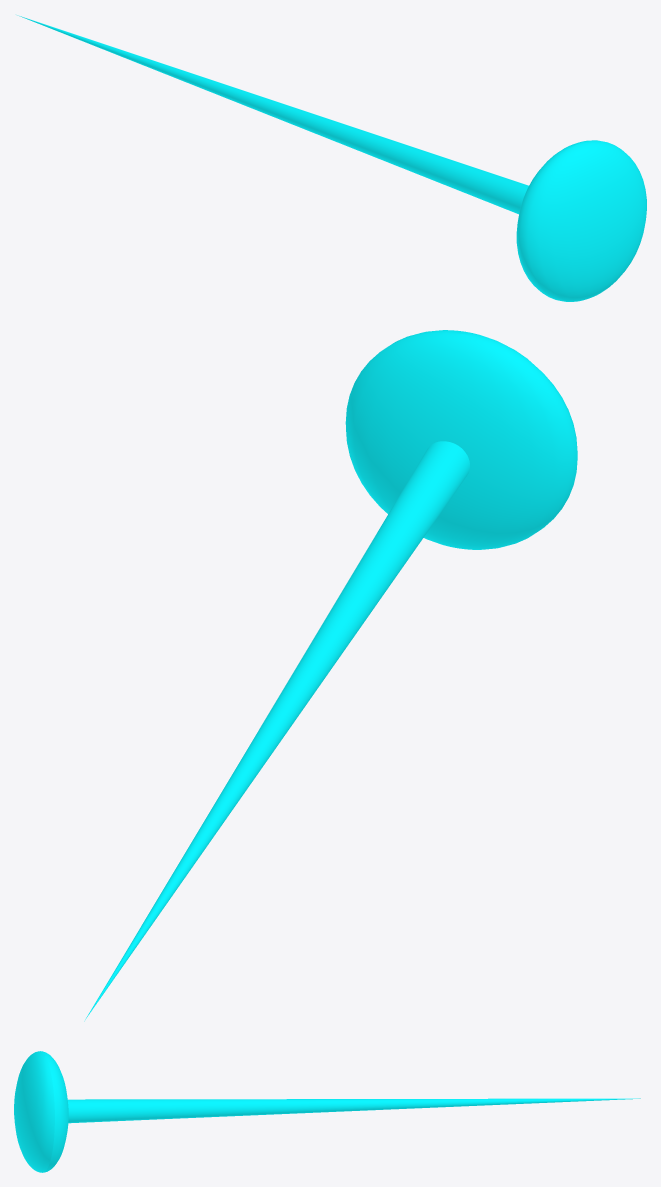
Rendered from nyt_insight__model___Mars_insight.glb.
3 renders of one model, top to bottom at view 1: azimuth 30°, elevation 25°; view 2: azimuth 150°, elevation 25°; view 3: azimuth 270°, elevation 25°, orthographic. The views are drawn at different scales.
Visible parts, largest first — view 1: sphere1; view 2: sphere1; view 3: sphere1.
Boxes of the visible parts, x1,y1,x2,y2 form: sphere1: [17, 15, 646, 301]; sphere1: [84, 330, 577, 1021]; sphere1: [14, 1051, 640, 1172].
Bounding box in the file's own units: 0.000313 × 0.000199 × 0.00104.
